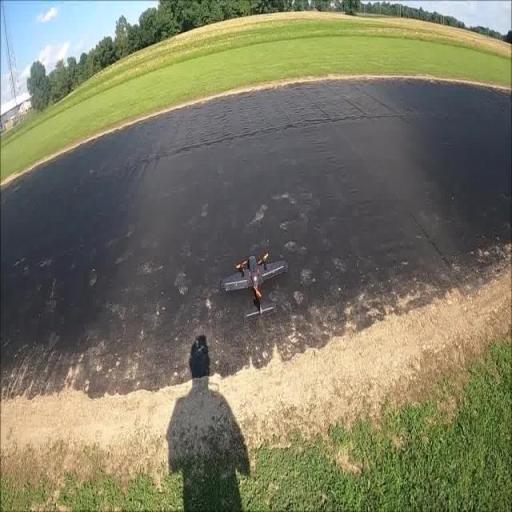uav: (218, 243, 290, 332)
